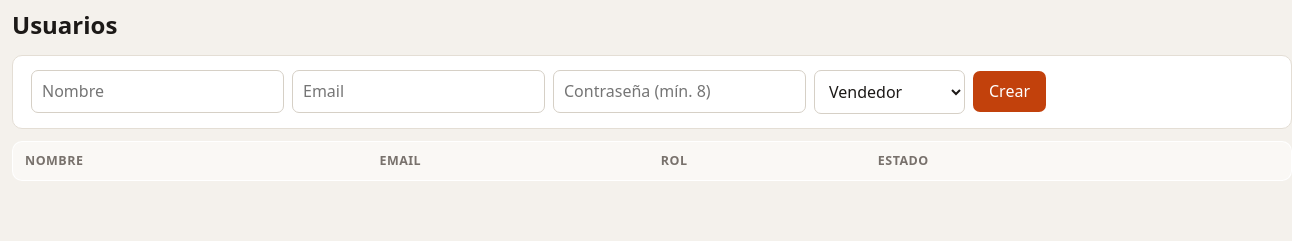
Test: UsuariosPage › muestra los errores del servidor
Type "N" into the field with placeholder "Nombre" at point(158, 92), box x1=31 y1=70 x2=284 y2=113
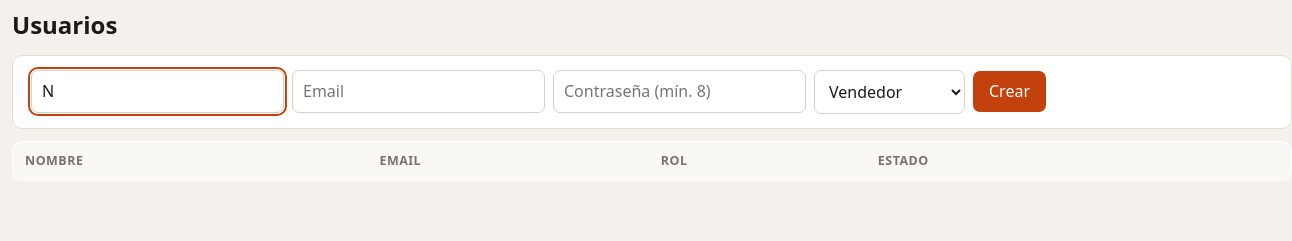
Type "n@x.com" into the field with placeholder "Email" at point(418, 92), box x1=292 y1=70 x2=545 y2=113
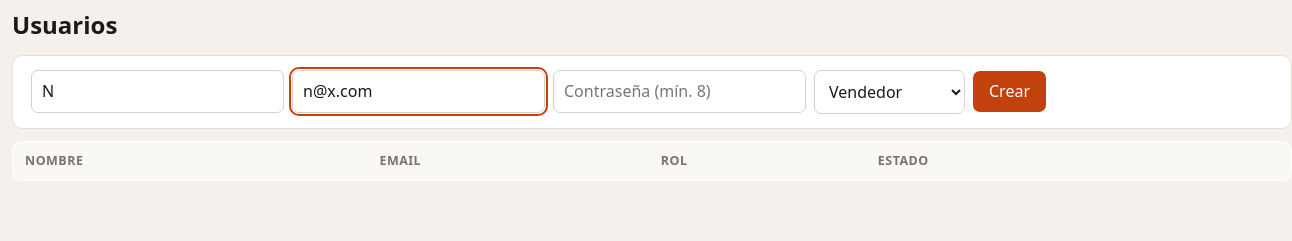
Type "Clave12345" into the password field with placeholder "Contraseña (mín. 8)" at point(680, 92), box x1=553 y1=70 x2=806 y2=113
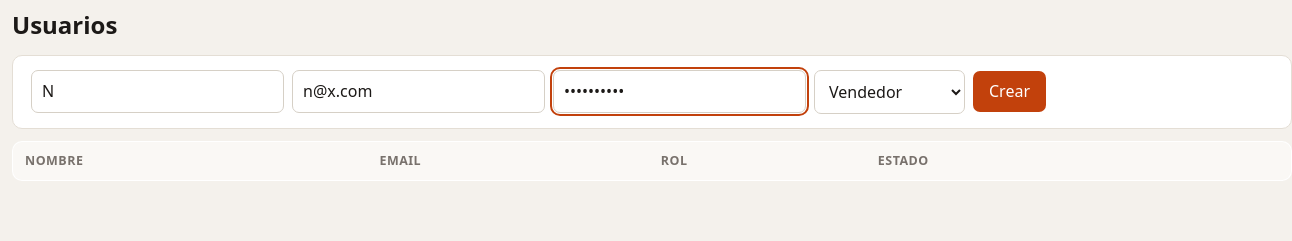
Click the button "Crear" at point(1010, 92), box x1=973 y1=71 x2=1046 y2=112
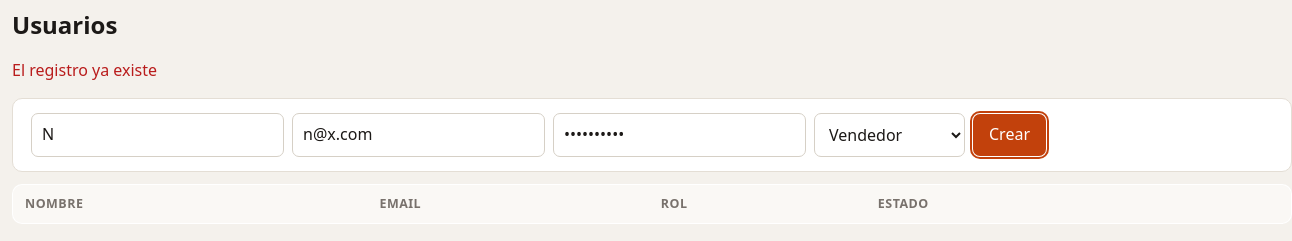
Result: the message reads "El registro ya existe" at x1=12 y1=59 x2=157 y2=81
